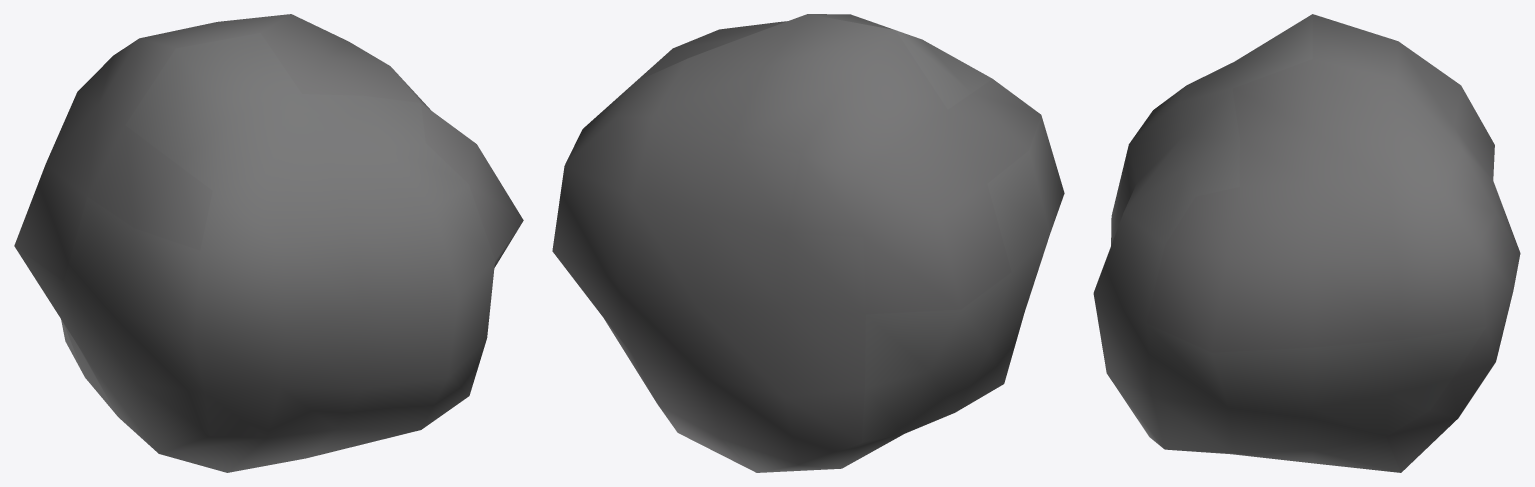
Rendered from Rock type 2.glb.
The picture shows the model from 3 angles, left to right: view 1: azimuth 30°, elevation 25°; view 2: azimuth 150°, elevation 25°; view 3: azimuth 270°, elevation 25°; orthographic projection. The views are drawn at different scales.
Visible parts, largest first — view 1: Cube.002; view 2: Cube.002; view 3: Cube.002.
Boxes of the visible parts, x1,y1,x2,y2 form: Cube.002: (14, 14, 523, 472); Cube.002: (552, 14, 1064, 472); Cube.002: (1093, 14, 1520, 472).
Bounding box in the file's own units: 0.0627 × 0.0604 × 0.0587.
1 material, 1 textured.
